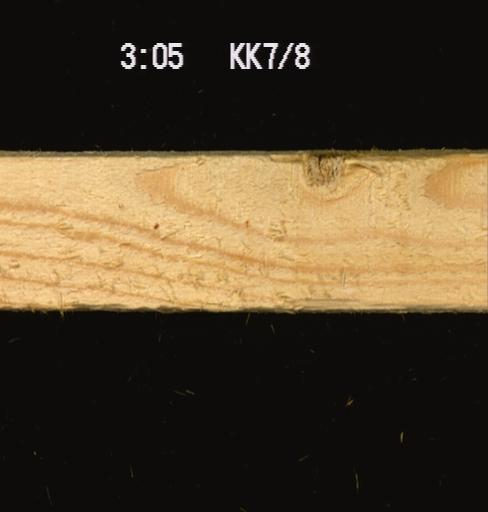edge_knot: (304, 150, 364, 204)
wave: (243, 290, 401, 313)
